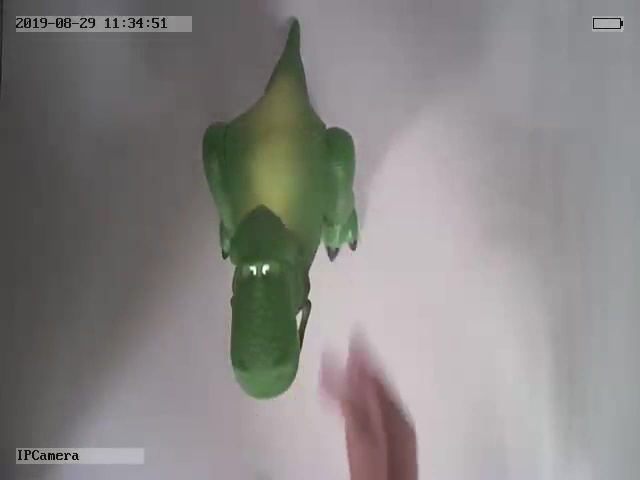rex: (201, 16, 359, 399)
